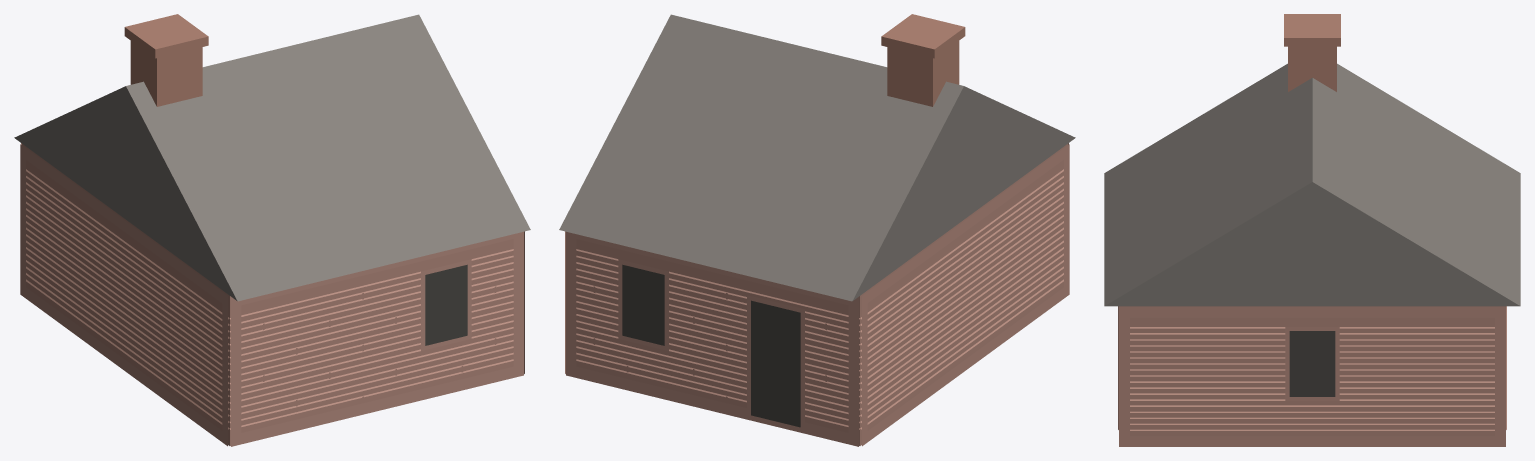
File: recon_1835_blk_south_water_lasalle_d3_10__inferred_1835.glb
3 renders of one model, left to right at view 1: azimuth 30°, elevation 25°; view 2: azimuth 150°, elevation 25°; view 3: azimuth 270°, elevation 25°, orthographic. The views are drawn at different scales.
Parts seen in each view (by area): view 1: recon_1835_blk_south_water_lasalle_d3_10__inferred_1835; view 2: recon_1835_blk_south_water_lasalle_d3_10__inferred_1835; view 3: recon_1835_blk_south_water_lasalle_d3_10__inferred_1835.
Boxes of the visible parts, box(x1,y1,x2,y2) form: recon_1835_blk_south_water_lasalle_d3_10__inferred_1835: box(14, 14, 530, 446); recon_1835_blk_south_water_lasalle_d3_10__inferred_1835: box(559, 14, 1075, 446); recon_1835_blk_south_water_lasalle_d3_10__inferred_1835: box(1104, 14, 1520, 446).
Size of the model in its own units: 5.48 by 5.78 by 7.13.
